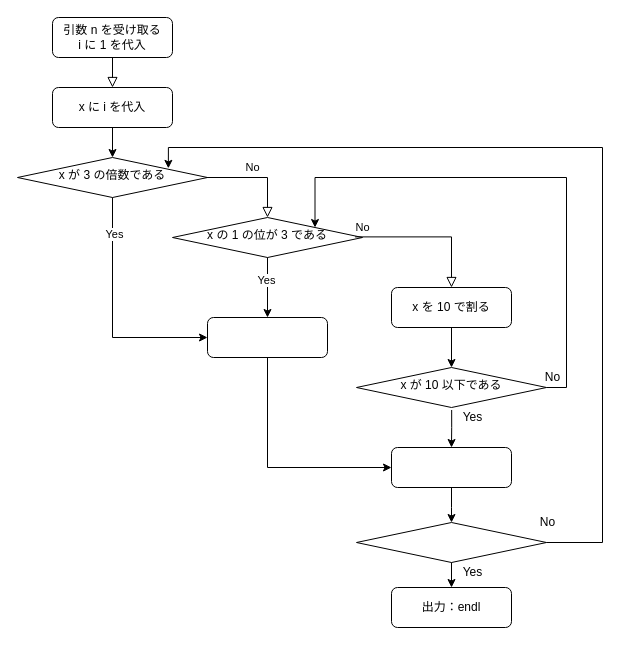
Some shapes in this 628 by 645 pixel diagram are drawn without their labels. The shapes that lost their labels are listed below. From the top down, each one's centre as x and y in pixels, then its label:
[267,337]: 出力：" " + i
[451,467]: i に 1 を加算する
[451,542]: i が n より大きい
